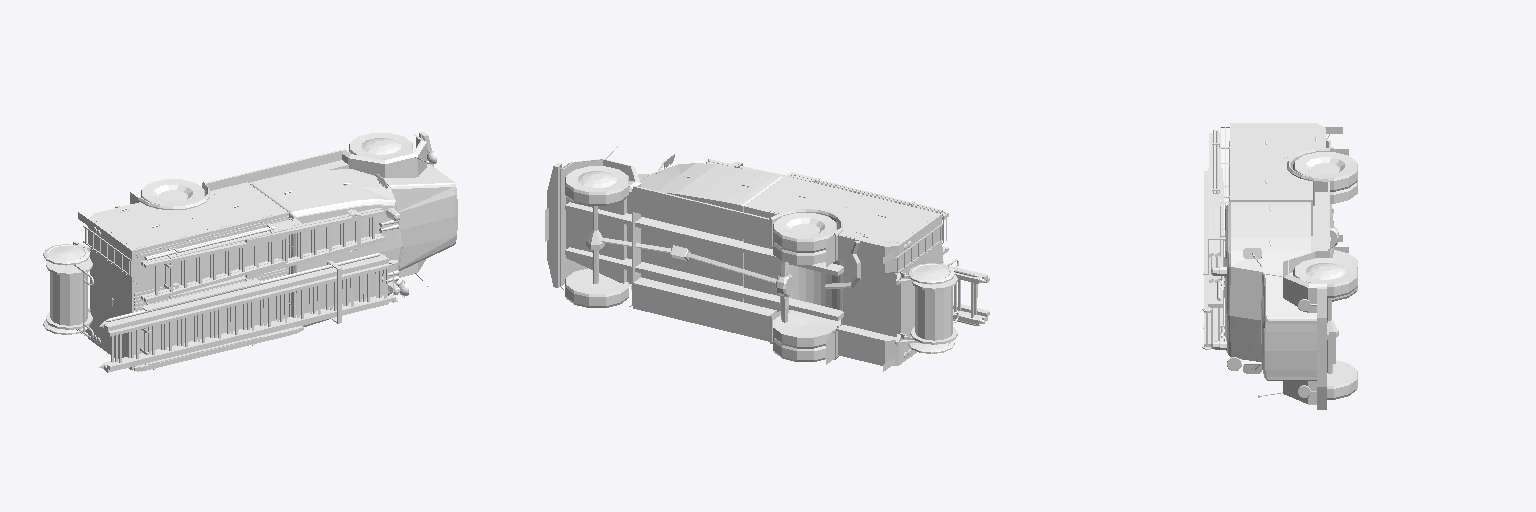
File: lf16_eck.obj
3 renders of one model, left to right at view 1: azimuth 30°, elevation 25°; view 2: azimuth 150°, elevation 25°; view 3: azimuth 270°, elevation 25°, orthographic.
Visible parts, largest first — view 1: geraete, tank, kaba, reifen, kf, tritt; view 2: tank, kaba, reifen, tritt, fahrwerk, geraete, kf; view 3: kaba, tank, reifen, kf, geraete, tritt, fahrwerk.
Boxes of the visible parts, x1=… form: geraete: x1=43, y1=208, x2=408, y2=372; tank: x1=83, y1=182, x2=360, y2=371; kaba: x1=250, y1=164, x2=457, y2=326; reifen: x1=141, y1=133, x2=412, y2=205; kf: x1=130, y1=132, x2=436, y2=286; tritt: x1=206, y1=150, x2=348, y2=190; tank: x1=729, y1=162, x2=946, y2=365; kaba: x1=566, y1=154, x2=782, y2=301; reifen: x1=565, y1=166, x2=836, y2=361; tritt: x1=633, y1=186, x2=776, y2=341; fahrwerk: x1=565, y1=202, x2=860, y2=322; geraete: x1=706, y1=159, x2=989, y2=353; kf: x1=547, y1=146, x2=842, y2=364; kaba: x1=1211, y1=202, x2=1316, y2=380; tank: x1=1203, y1=123, x2=1325, y2=328; reifen: x1=1293, y1=152, x2=1357, y2=399; kf: x1=1258, y1=148, x2=1348, y2=409; geraete: x1=1202, y1=130, x2=1333, y2=370; tritt: x1=1315, y1=182, x2=1329, y2=250; fahrwerk: x1=1311, y1=140, x2=1338, y2=373.
Size of the model in its own units: 764 by 234 by 261.